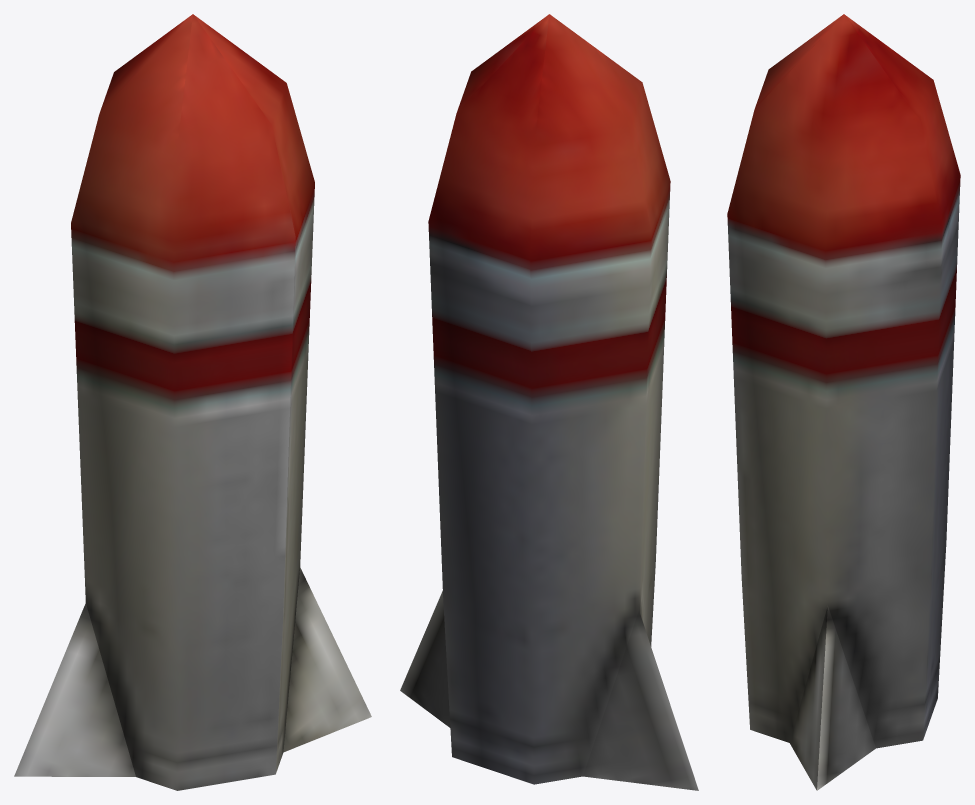
The model's file is bomb.glb.
3 renders of one model, left to right at view 1: azimuth 30°, elevation 25°; view 2: azimuth 150°, elevation 25°; view 3: azimuth 270°, elevation 25°, orthographic. The views are drawn at different scales.
Parts seen in each view (by area): view 1: bomb04; view 2: bomb04; view 3: bomb04.
Boxes of the visible parts, x1=… form: bomb04: x1=14, y1=14, x2=371, y2=790; bomb04: x1=400, y1=14, x2=698, y2=790; bomb04: x1=727, y1=14, x2=960, y2=790.
Bounding box in the file's own units: 0.5031 × 1.07 × 0.3227.
Materials: 1 (1 with a texture image).
